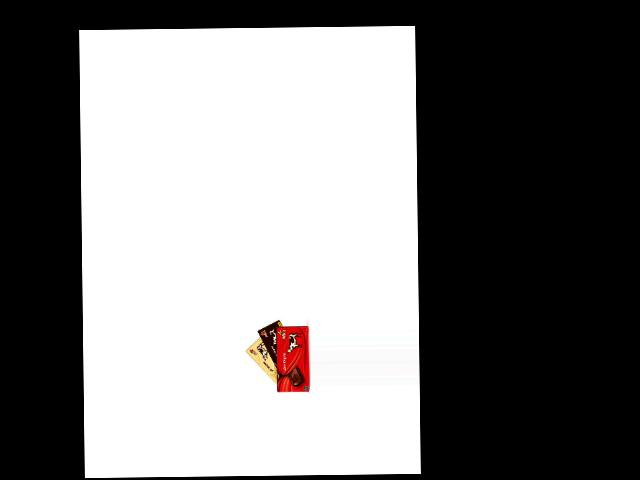chocolate: (244, 329, 283, 390)
